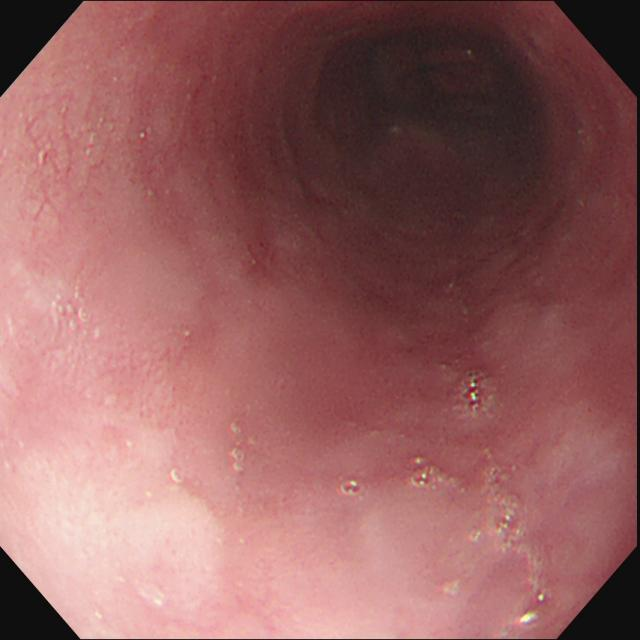T: (413, 465, 466, 492), (464, 370, 484, 412), (340, 480, 364, 497)
U: (519, 612, 540, 627)
